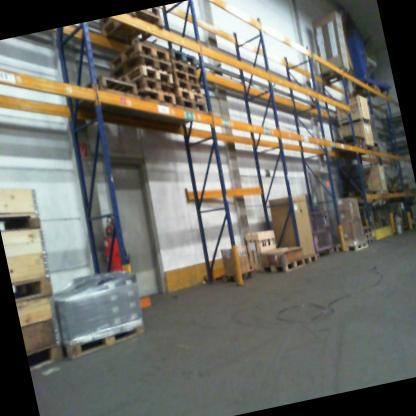pallet: (59, 311, 153, 365), (64, 62, 139, 125), (100, 6, 166, 51), (102, 36, 170, 70), (133, 77, 178, 115), (29, 339, 74, 375), (122, 49, 173, 80), (128, 60, 176, 90), (100, 5, 163, 26), (257, 254, 305, 280), (13, 273, 55, 302), (0, 206, 41, 234), (132, 75, 173, 100), (318, 63, 354, 88), (177, 93, 208, 120), (336, 238, 373, 259), (175, 84, 203, 108), (168, 58, 198, 80), (168, 45, 195, 68), (174, 74, 201, 96), (333, 132, 365, 150), (172, 65, 197, 86), (349, 140, 369, 159), (352, 186, 374, 201), (302, 252, 319, 269), (377, 187, 392, 200), (364, 238, 377, 251), (362, 226, 373, 234), (363, 232, 375, 239)
stillage: (305, 208, 340, 261)
